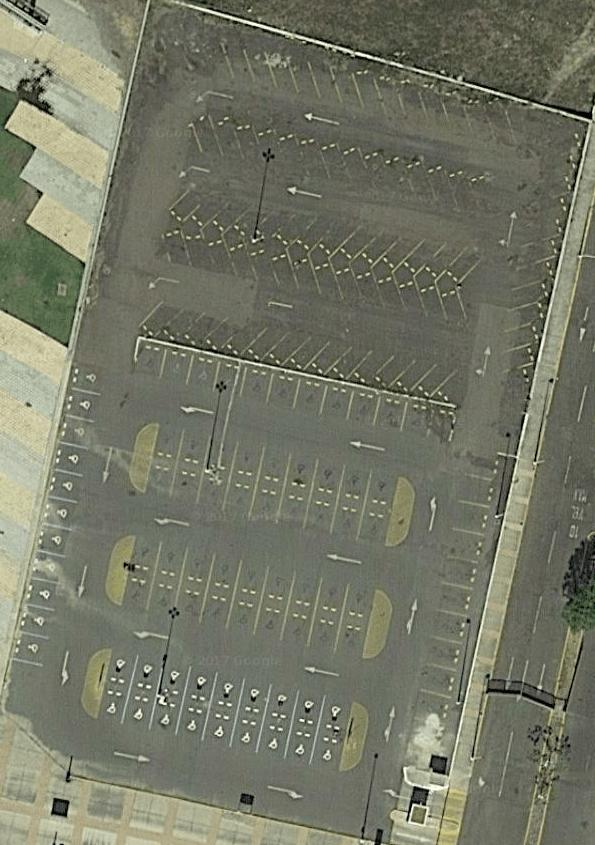parkingspot: (166, 28, 519, 148), (138, 297, 473, 406), (131, 338, 458, 443), (7, 358, 112, 667), (189, 113, 499, 213), (166, 187, 484, 284), (162, 226, 468, 322), (409, 449, 502, 735), (495, 131, 584, 399), (125, 532, 379, 624), (103, 645, 356, 736), (151, 421, 403, 510), (118, 574, 370, 663), (142, 459, 393, 548), (94, 687, 348, 773)
